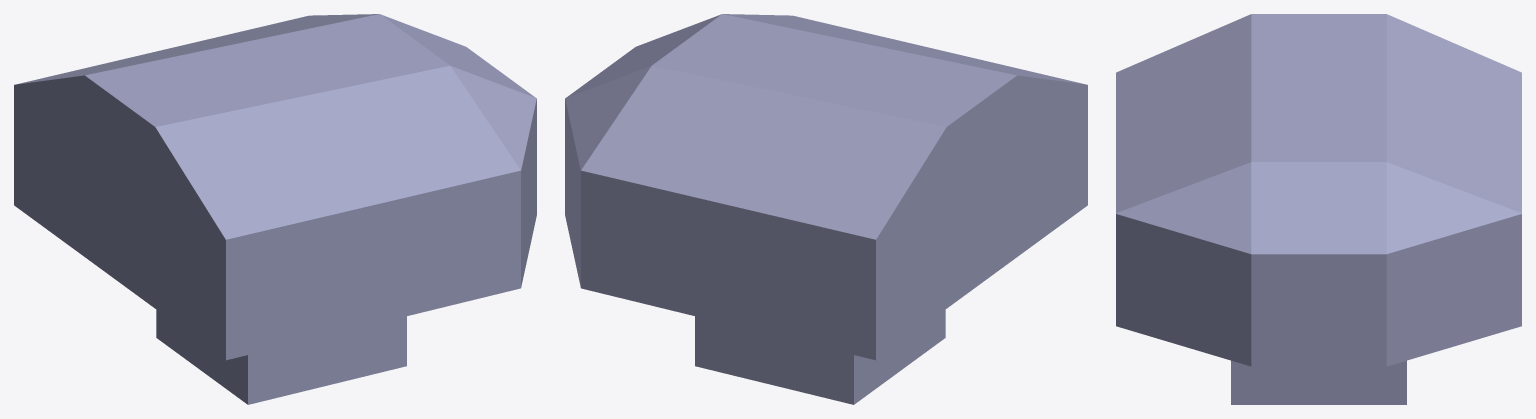
3 renders of one model, left to right at view 1: azimuth 30°, elevation 25°; view 2: azimuth 150°, elevation 25°; view 3: azimuth 270°, elevation 25°, orthographic. The views are drawn at different scales.
Visible parts, largest first — view 1: Cube.001; view 2: Cube.001; view 3: Cube.001.
Part boxes in pixels (bbox=[...]): Cube.001: bbox=[14, 14, 536, 404]; Cube.001: bbox=[565, 14, 1087, 404]; Cube.001: bbox=[1116, 14, 1521, 404].
Bounding box in the file's own units: 208 × 151 × 200.
